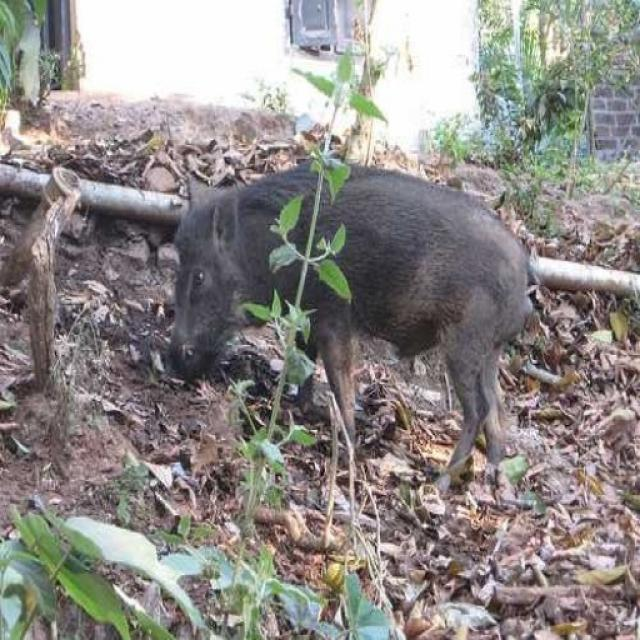pig: (135, 125, 584, 539)
